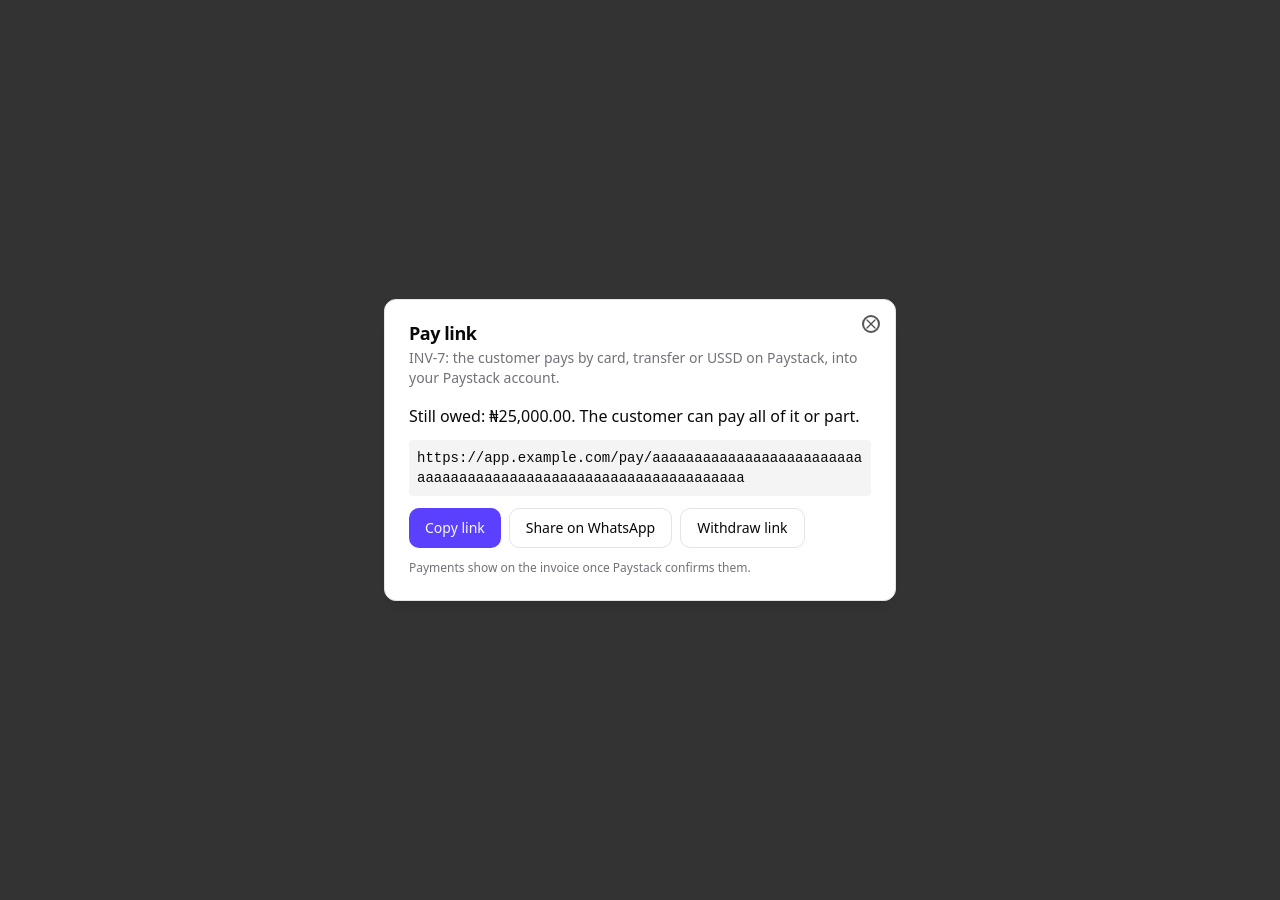
Test: staff share a pay link, and can withdraw it
What coordinates should you click on to do the following:
click the button "Withdraw link"
I would click on:
 (742, 528)
Its box is [680,508,804,548].
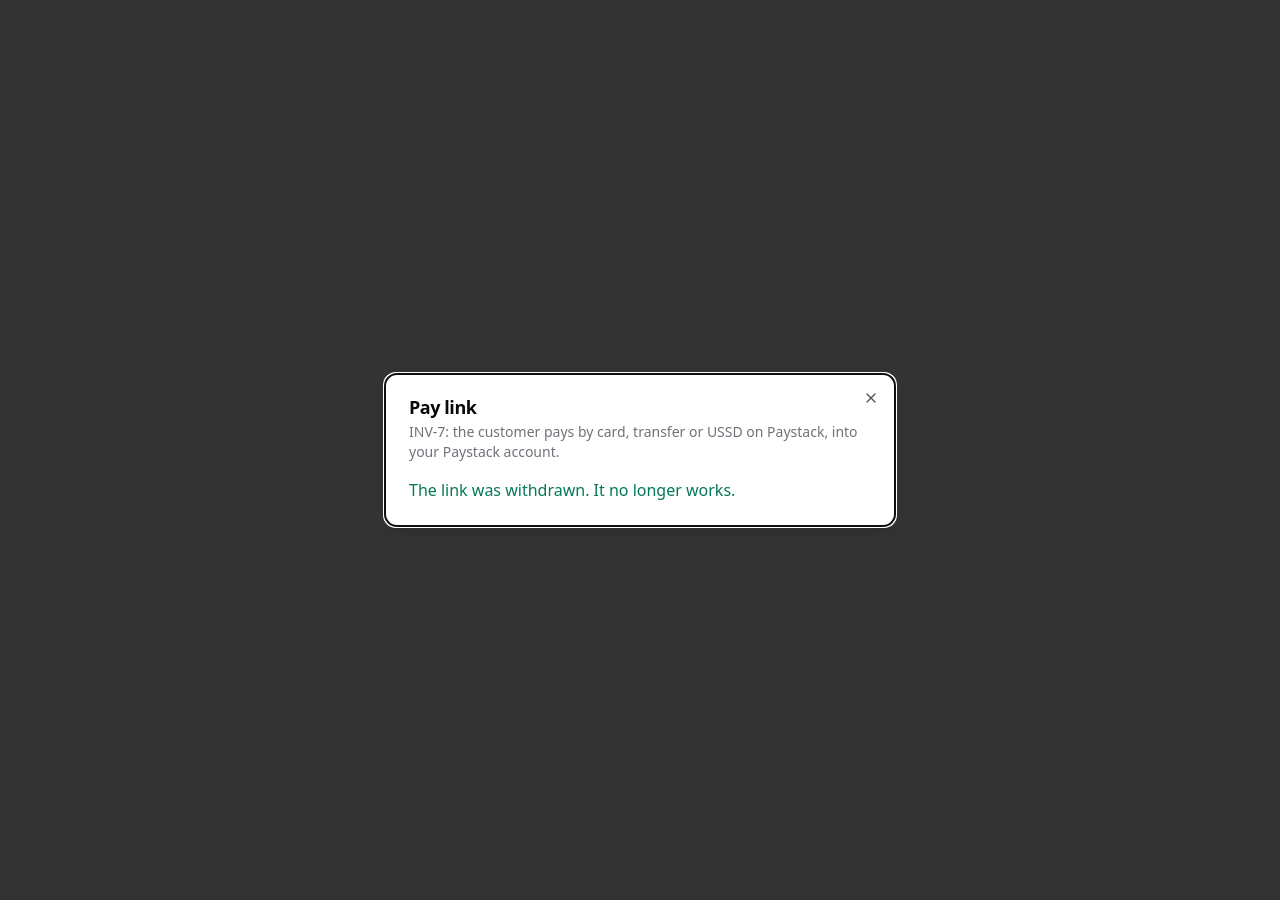
Check: the text "The link was withdrawn. It no longer works." is shown, box [409,479,735,501]
